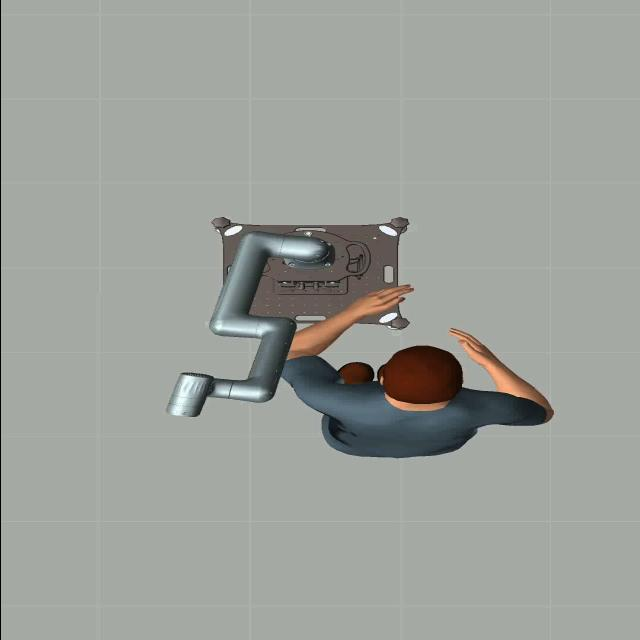human: (279, 282, 569, 462)
robot: (162, 215, 340, 426)
